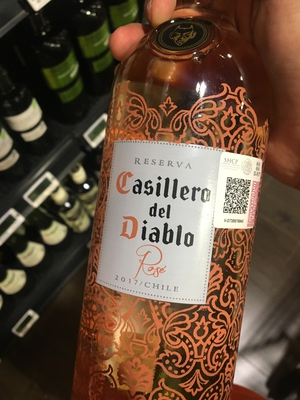casillero del diablo rose: (73, 15, 278, 400)
